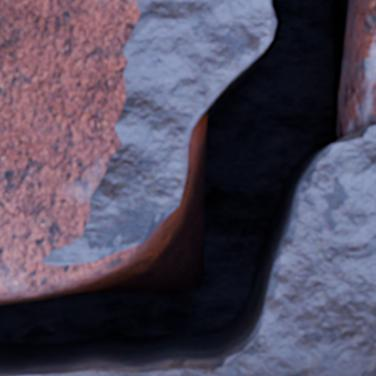brick: (0, 0, 139, 285), (368, 0, 375, 122)
crack: (0, 0, 373, 375)
